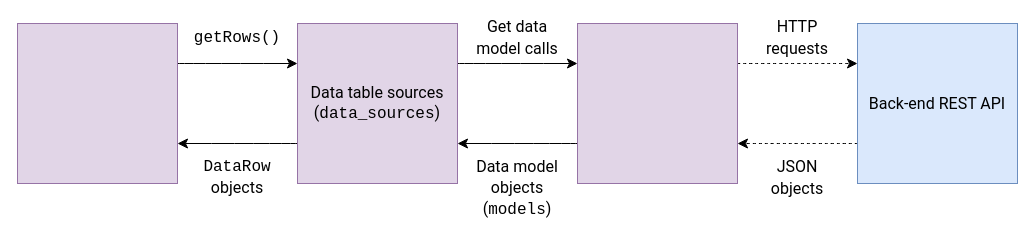
Image size: 1035x240. Some labels were removed from this diagram. Each missing label, with the box of its shape:
Data tables on pages ( pages ): (16, 22, 178, 184)
REST API wrapper ( api.dart ): (576, 22, 738, 184)
